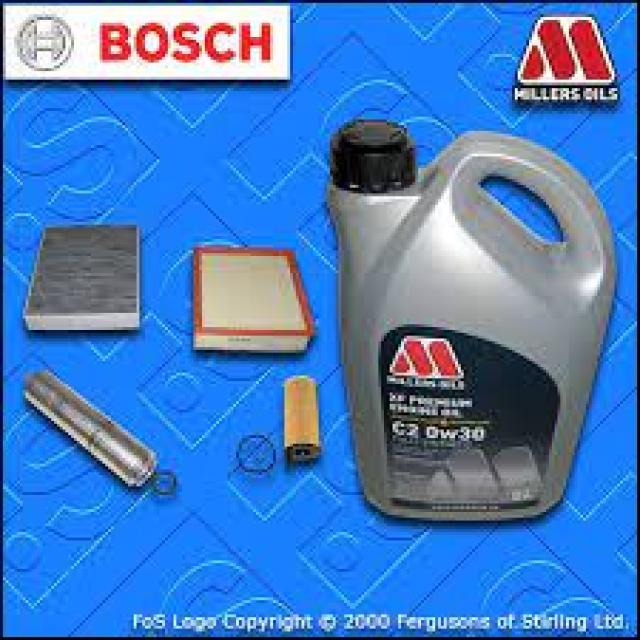air_filter: (187, 240, 319, 352), (22, 222, 146, 334)
motor_oil: (330, 115, 623, 531)
oil_filter: (14, 365, 165, 495), (274, 372, 334, 466)
